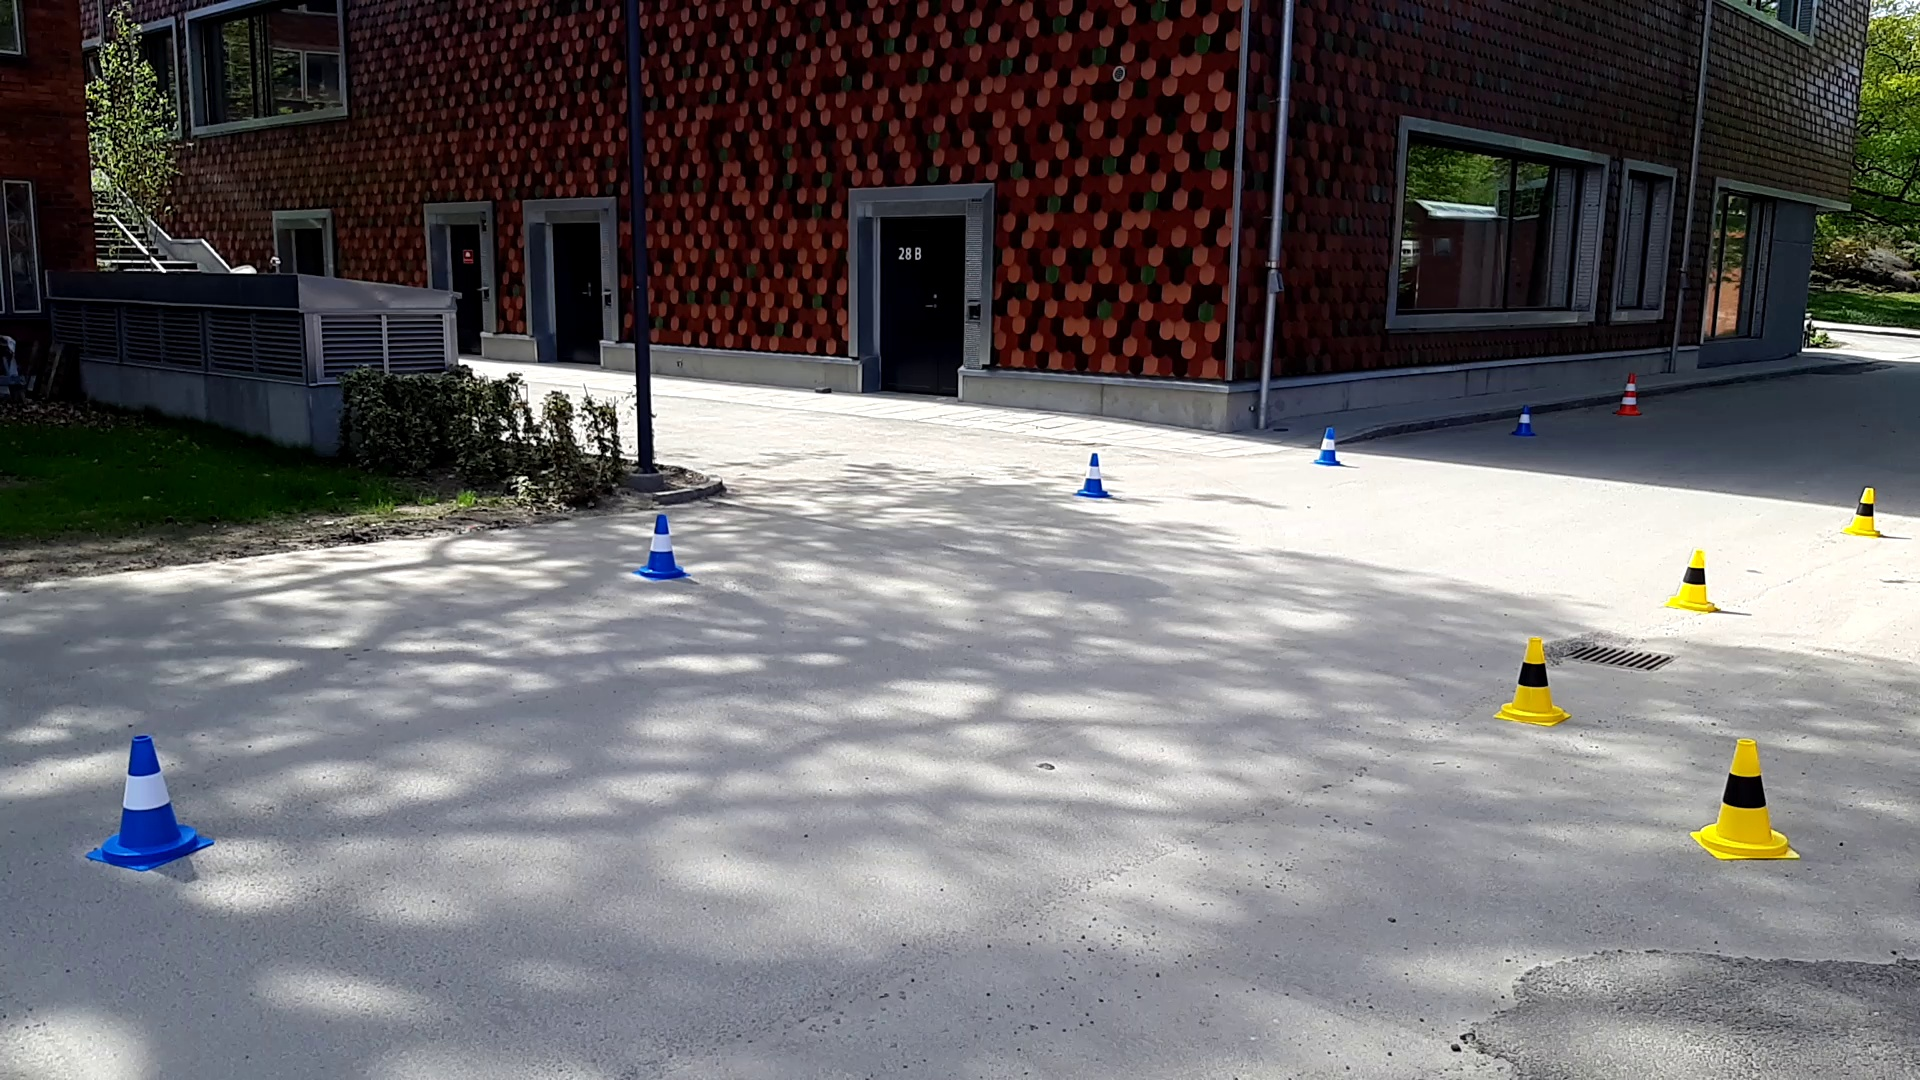Cone: (94, 732, 212, 874), (1691, 736, 1793, 865), (1495, 638, 1572, 731), (1665, 543, 1726, 616), (636, 512, 694, 584), (1844, 487, 1884, 538), (1077, 448, 1112, 501), (1312, 422, 1345, 468)
